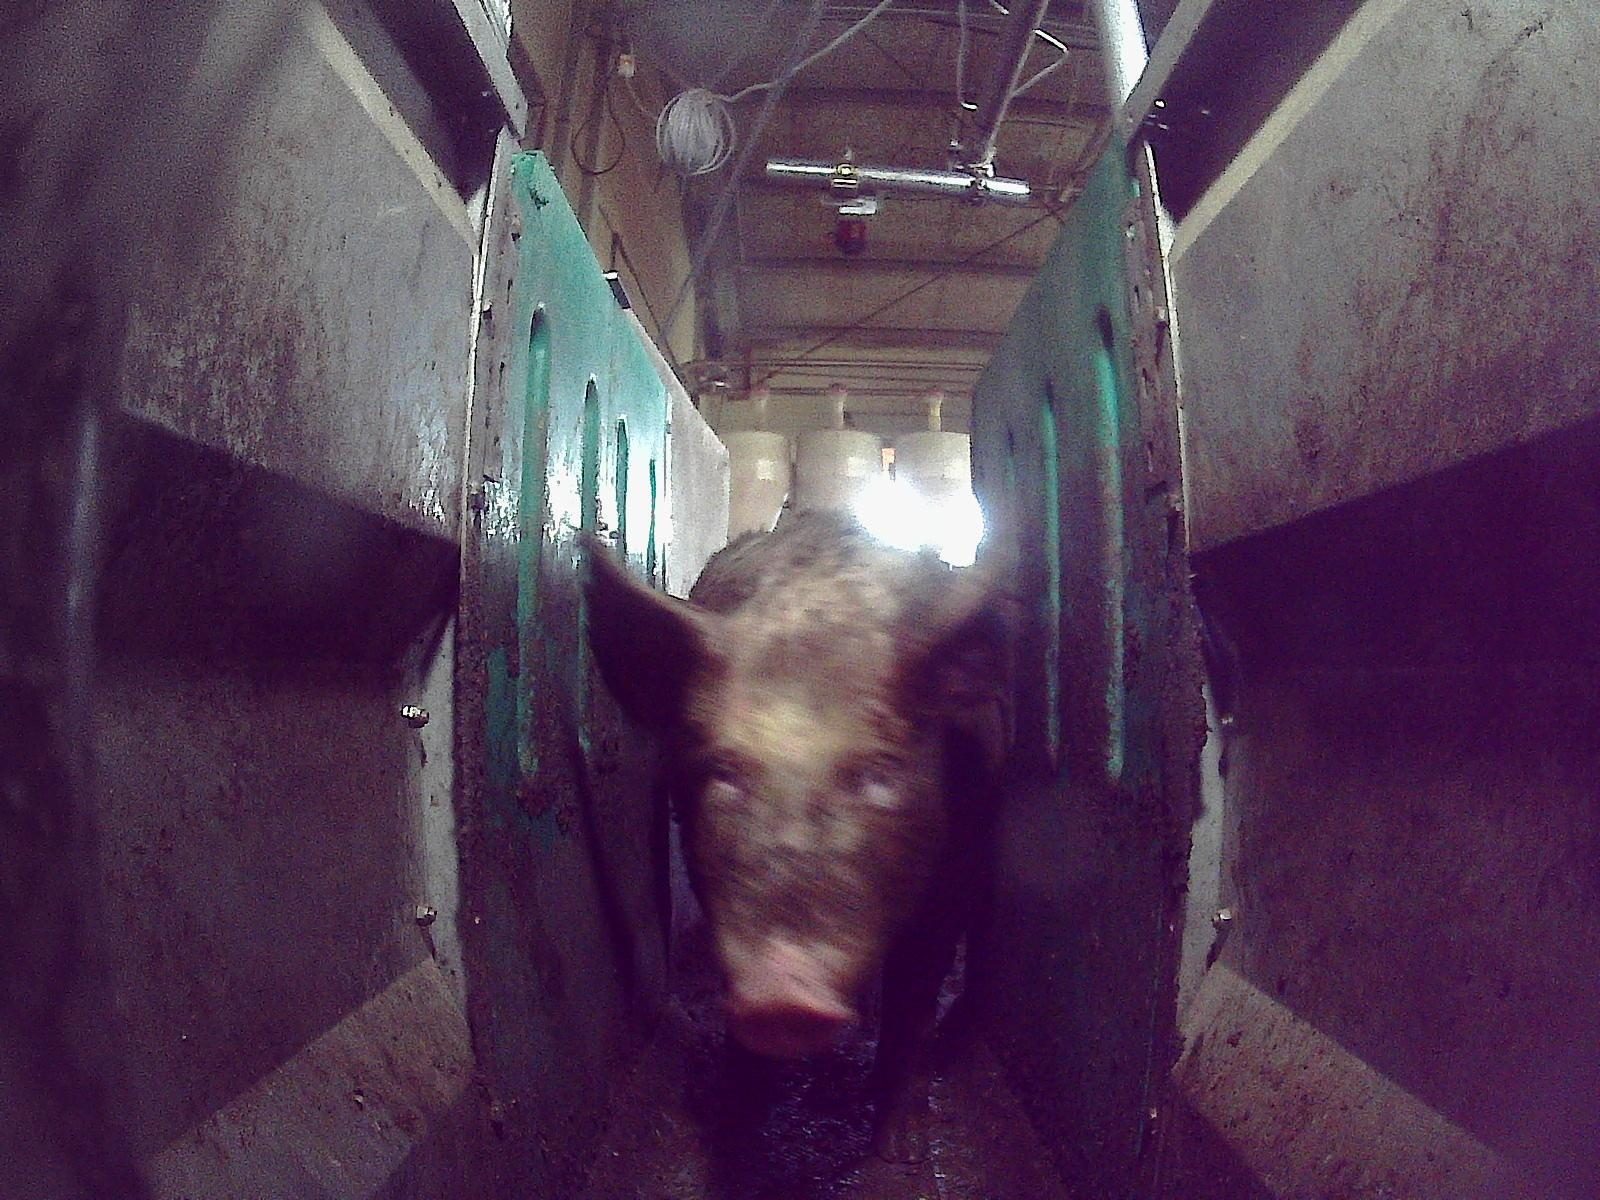Face: (667, 661, 922, 1055)
